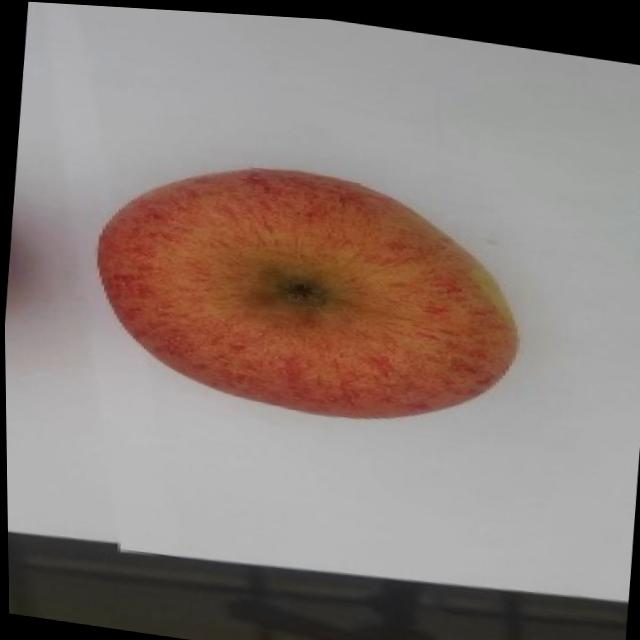Apple: (68, 134, 535, 438)
